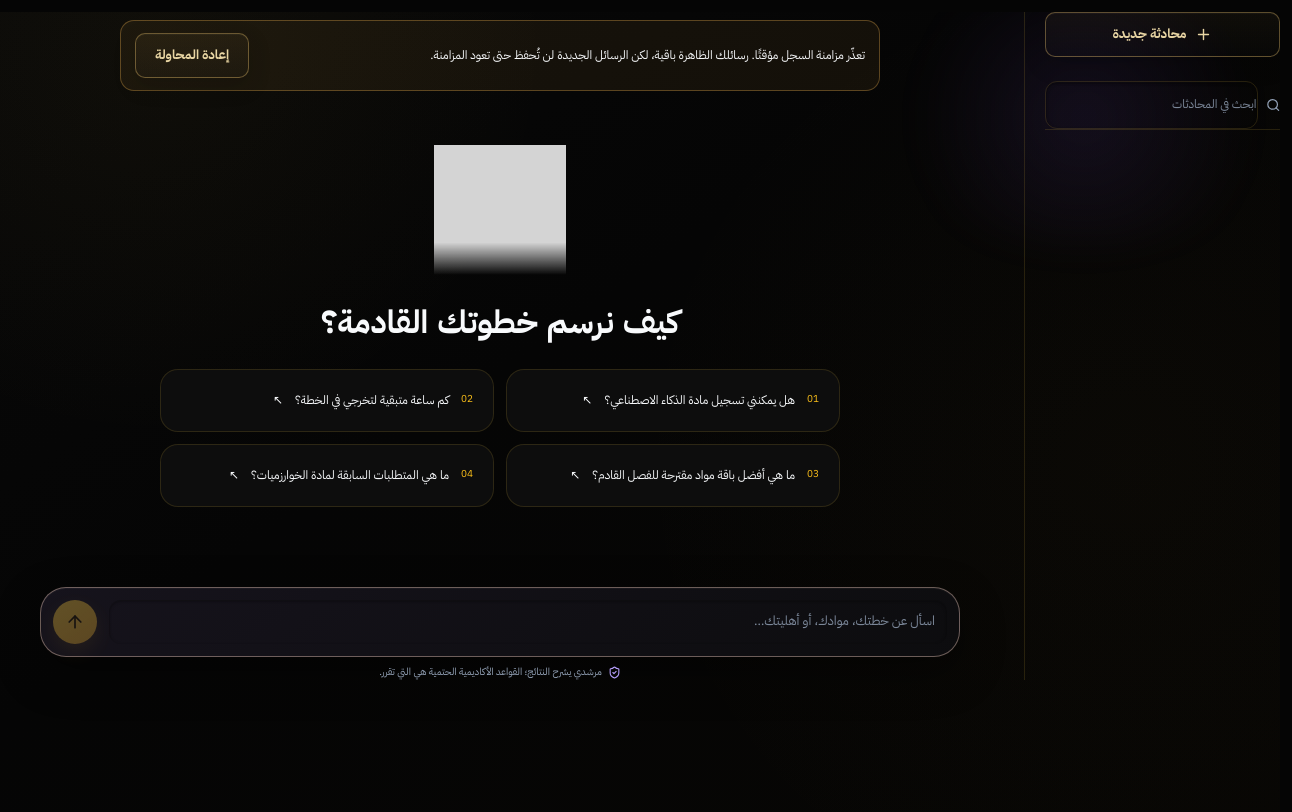
Test: student AI chat resilience › uses the same deterministic student endpoint for academic chat when persistence is unavailable
Expected: the text "تعذّر مزامنة السجل مؤقتًا" is shown, [430,46,865,64]
Type "شو المواد اللي بقدر أسجلها؟" into the text box named "الاستفسار الأكاديمي" at (528, 622), box [109,600,947,644]
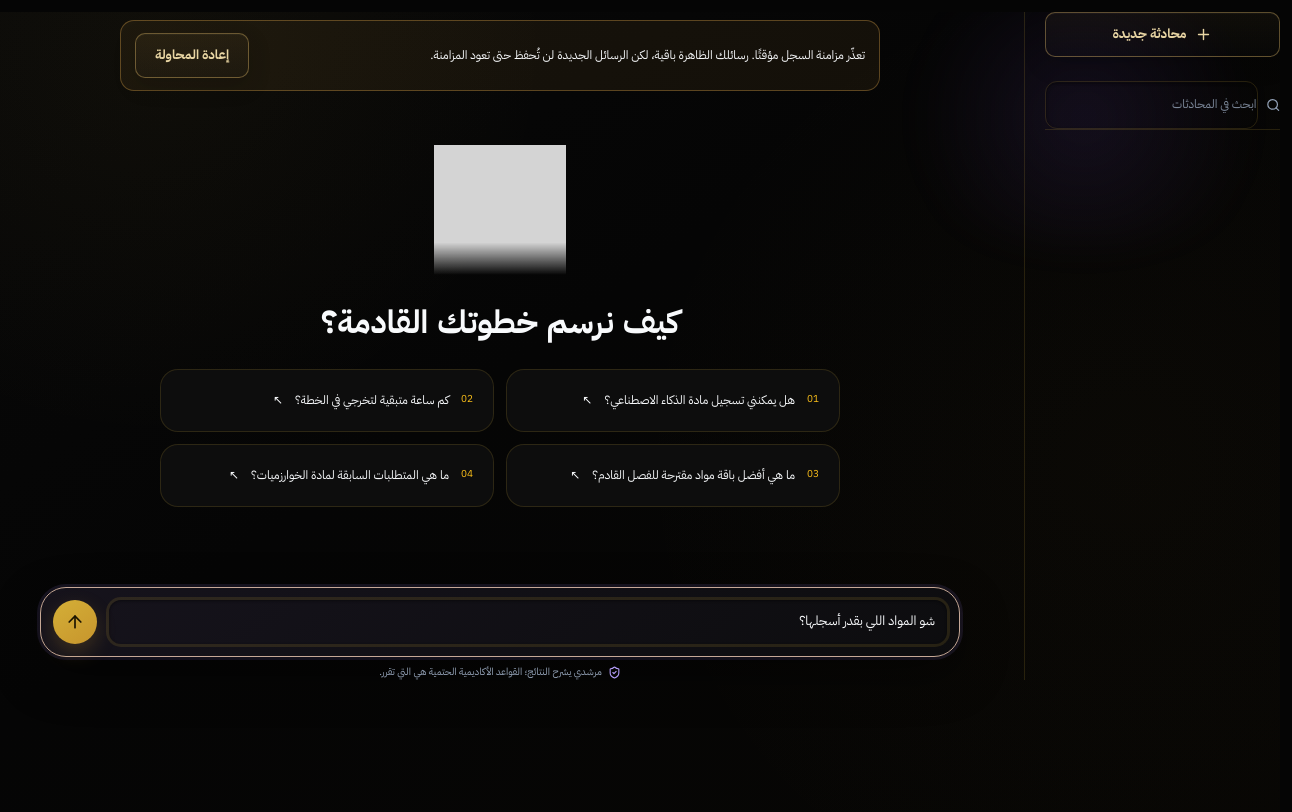
Expected: the button named "إرسال" is enabled
Click the button named "إرسال" at (75, 622), box [53,600,97,644]
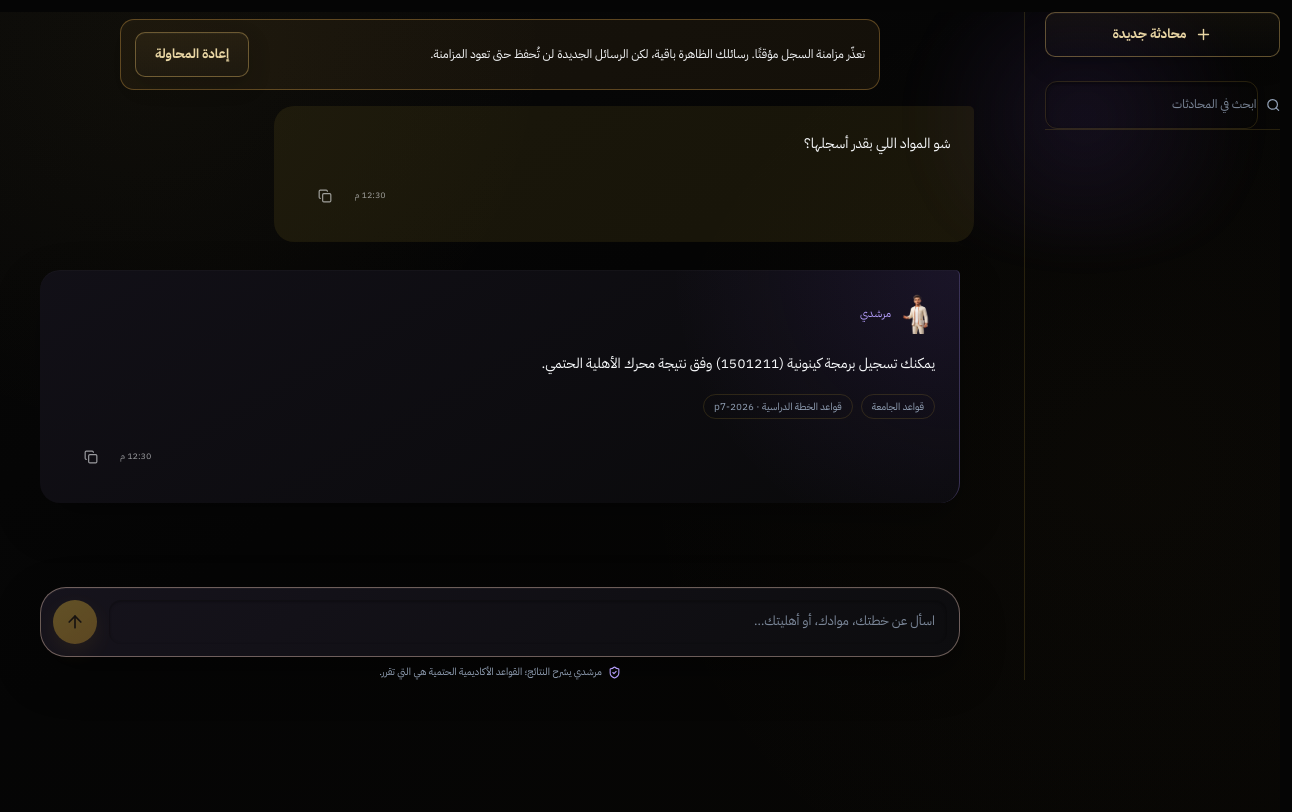
Expected: the text "يمكنك تسجيل برمجة كينونية (1501211) وفق نتيجة محرك الأهلية الحتمي." is shown, [542,353,935,374]
Expected: the text "قواعد الجامعة" is shown, [861,394,935,419]
